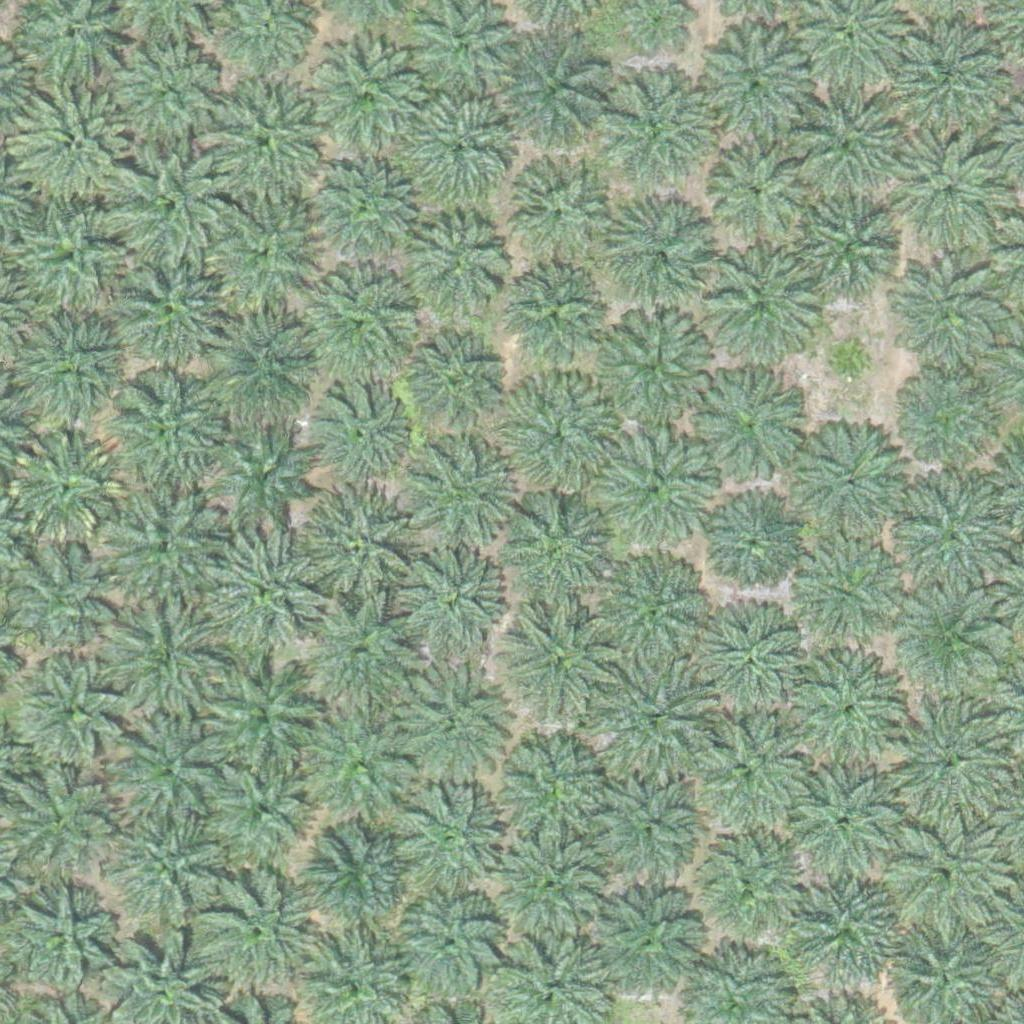Kelapa_Sawit: (25, 88, 150, 214), (309, 35, 434, 161), (594, 68, 719, 194), (695, 25, 820, 151), (892, 477, 1017, 603), (785, 87, 910, 213), (591, 551, 716, 677), (498, 370, 623, 496), (497, 492, 622, 618), (497, 604, 622, 730), (304, 146, 429, 272), (292, 483, 417, 609), (300, 594, 425, 720), (196, 529, 321, 655), (200, 299, 325, 425), (196, 192, 321, 318), (203, 84, 328, 210), (108, 142, 233, 268), (104, 245, 229, 371), (104, 364, 229, 490), (102, 484, 227, 610), (92, 599, 217, 725), (108, 707, 233, 833), (106, 801, 231, 927), (198, 646, 323, 772), (202, 745, 327, 871), (198, 866, 323, 992), (290, 701, 415, 827), (384, 783, 509, 909), (387, 660, 512, 786), (494, 823, 619, 949), (675, 713, 800, 839), (885, 698, 1010, 824), (881, 813, 1006, 939), (486, 34, 611, 159), (589, 423, 714, 548), (591, 306, 716, 431), (398, 86, 523, 211), (494, 729, 619, 854), (680, 824, 805, 949), (16, 200, 129, 314), (16, 308, 129, 422), (116, 37, 229, 150), (894, 585, 1007, 698), (788, 539, 901, 652), (791, 421, 904, 534), (793, 199, 906, 312), (399, 214, 512, 327), (305, 821, 418, 934), (589, 887, 702, 1000), (590, 773, 703, 886), (603, 658, 716, 771), (891, 34, 1003, 148), (895, 135, 1007, 249), (893, 260, 1005, 374), (2, 768, 114, 882), (695, 362, 807, 475), (705, 608, 817, 721), (601, 201, 713, 314), (503, 156, 615, 269), (391, 544, 503, 657), (407, 438, 519, 551), (304, 273, 416, 386), (10, 430, 122, 543), (9, 546, 121, 659), (17, 655, 129, 768), (4, 881, 116, 994), (395, 891, 507, 1004), (793, 870, 905, 983), (785, 767, 897, 880), (790, 657, 902, 770), (898, 367, 998, 468), (705, 139, 805, 240), (712, 257, 812, 358), (705, 494, 805, 595), (503, 266, 603, 367), (407, 332, 507, 433), (312, 382, 412, 483), (214, 423, 314, 523), (824, 338, 874, 388)
